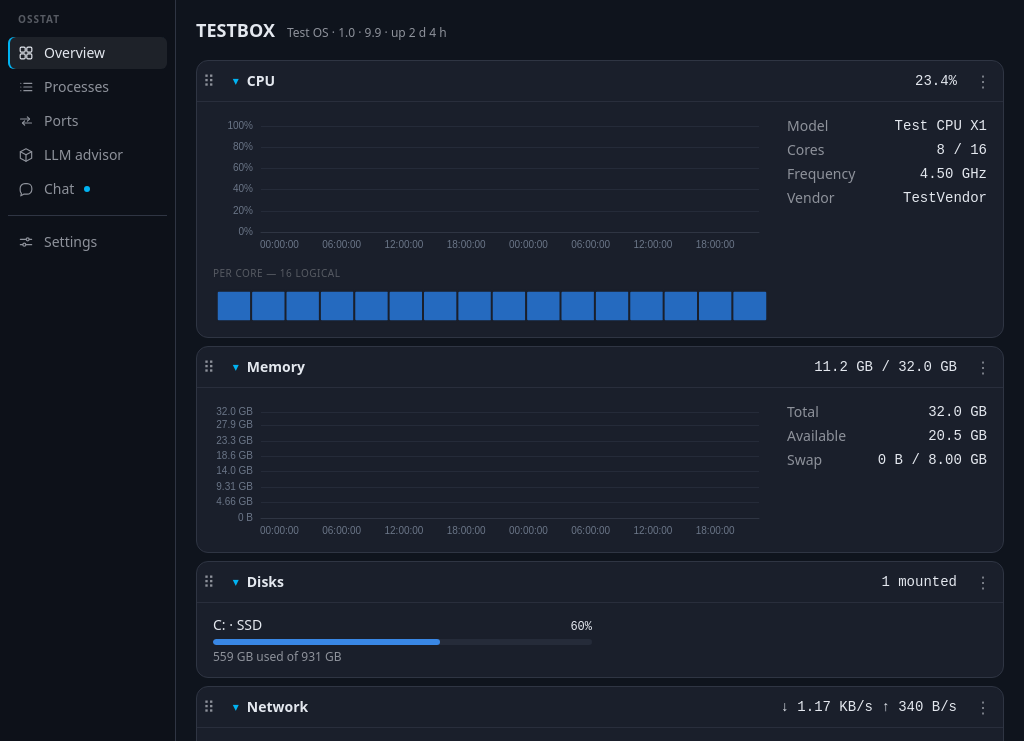
Test: App › presents sections as sub-tabs when that layout is chosen
The image size is (1024, 741).
Check: the heading "TESTBOX" is shown, box [196,16,275,44]
Step 1. Click the button titled "Settings" → click(88, 242), box [8,226,167,258]
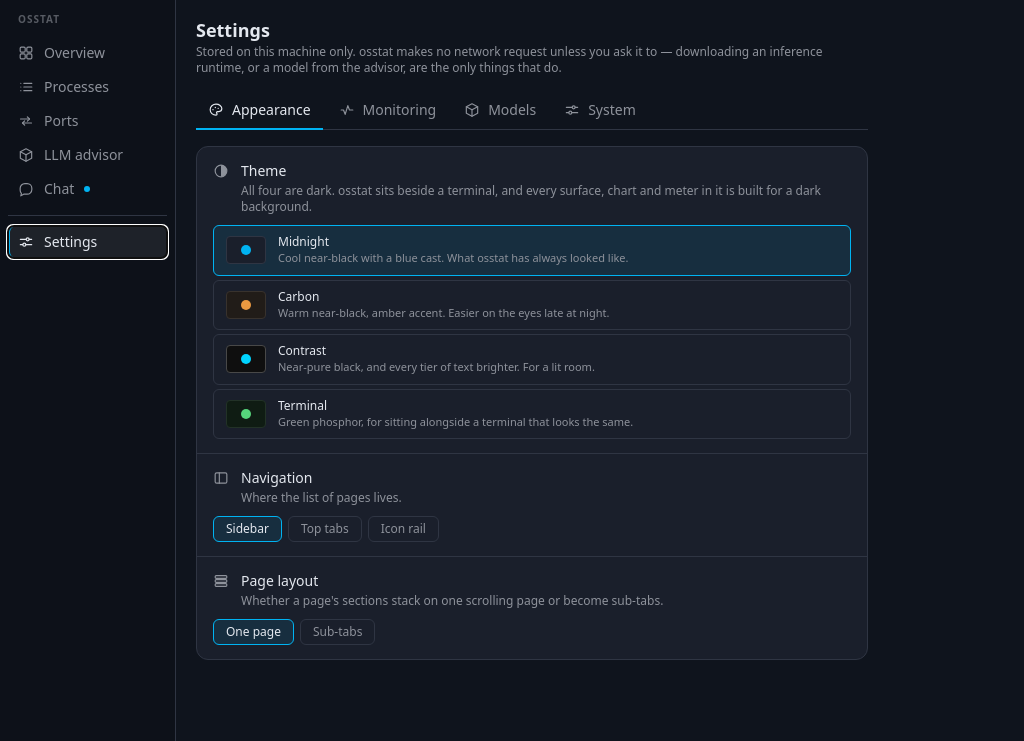
Step 2. Click the radio button labelled "Sub-tabs" → click(338, 632), box [300,619,375,645]
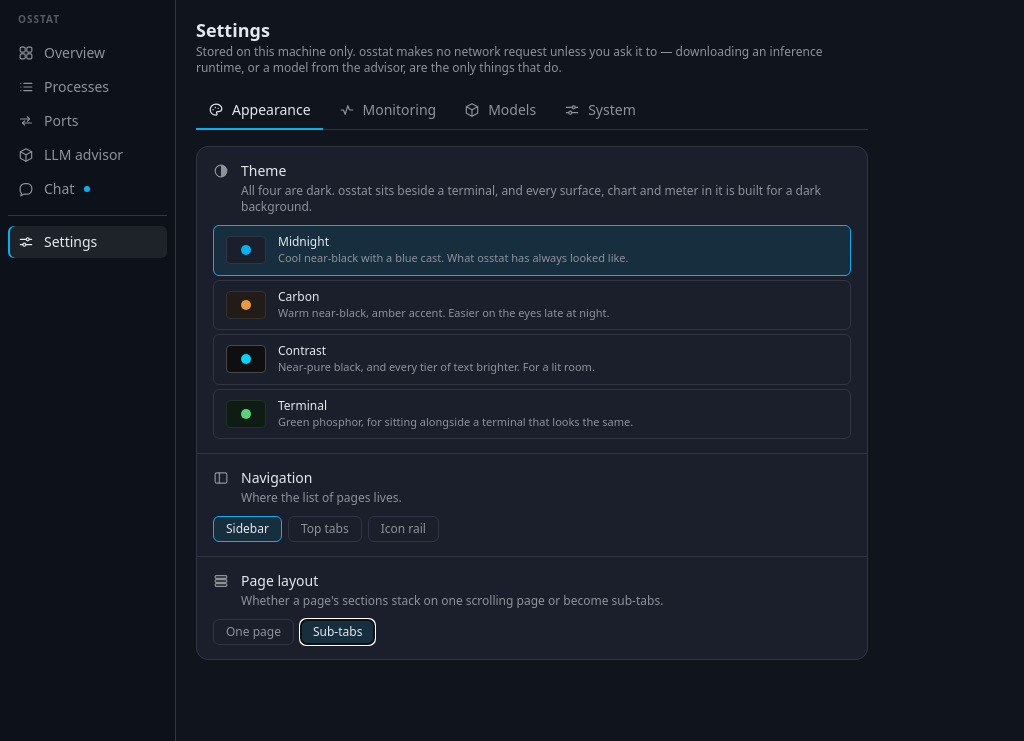
Step 3. Click the button titled "Overview" → click(88, 53), box [8,37,167,69]
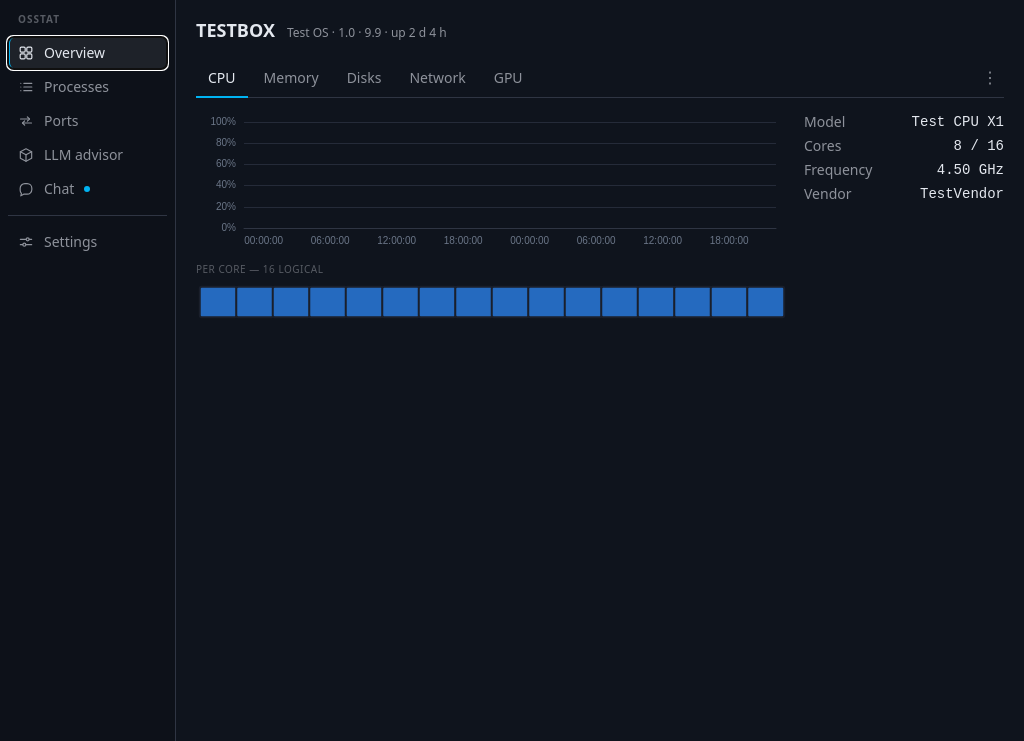
Check: the tab "CPU" is shown, box [196,60,248,98]
